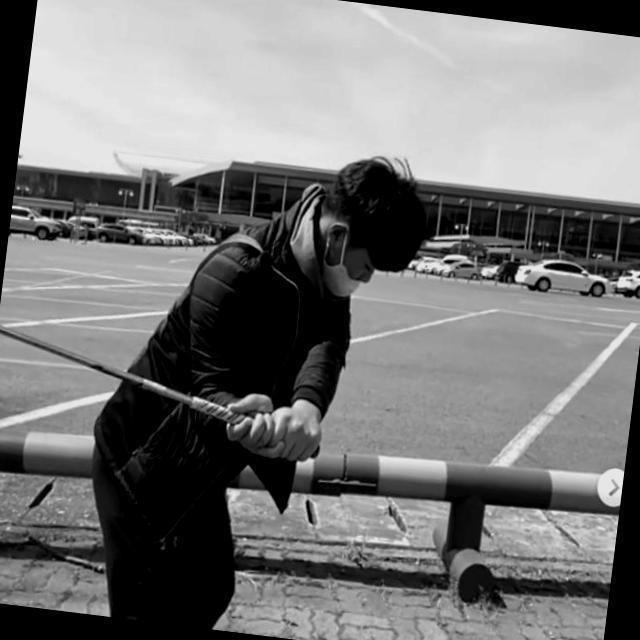mask: (318, 252, 357, 292)
no_apron: (268, 393, 334, 447), (228, 389, 278, 446)
